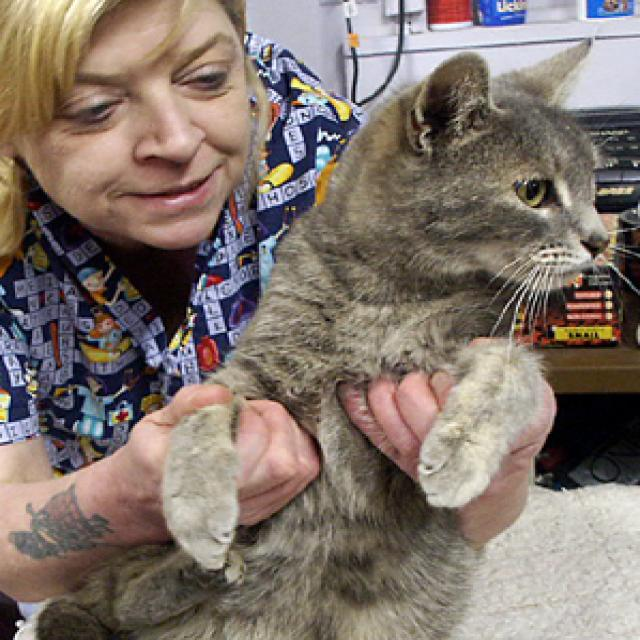Cats: (9, 34, 616, 638)
